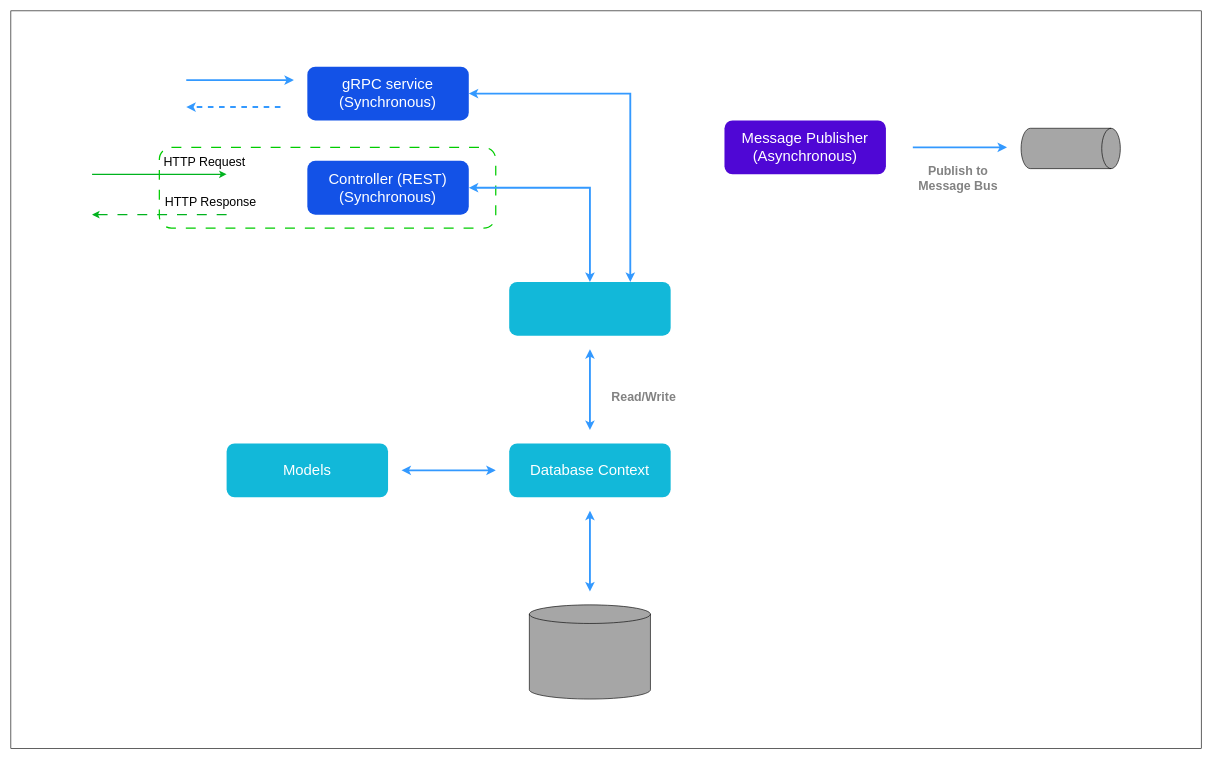
This 1212x760 diagram has some shape labels left out. The shapes that lost their labels are listed below. From the top down, each one's box as (x1, y1, x2, y2) in pixels, then its label:
(1020, 128, 1120, 169): RabbitMQ
(509, 282, 670, 335): Repository
(529, 604, 650, 699): SQL Server Database
